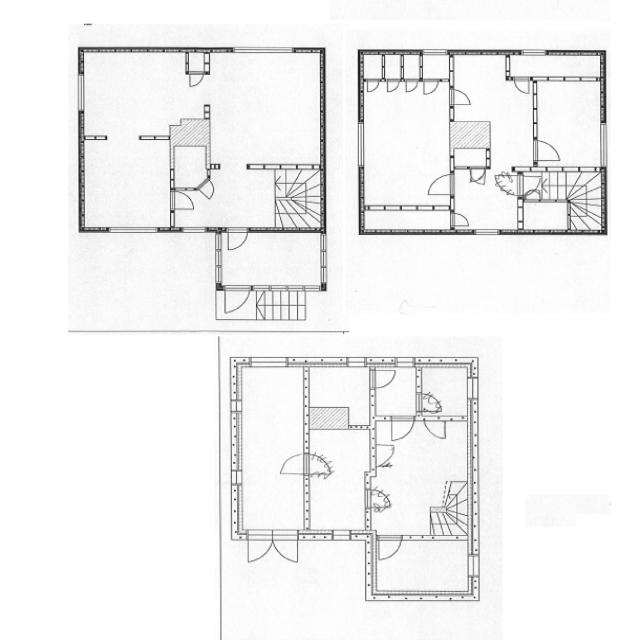door: (248, 532, 300, 565), (490, 160, 518, 198), (222, 284, 252, 314), (376, 534, 403, 562), (533, 139, 562, 165), (425, 172, 455, 197), (389, 416, 416, 442), (224, 227, 250, 252), (169, 189, 196, 213), (280, 452, 307, 476), (306, 453, 332, 477), (371, 367, 397, 390), (423, 417, 447, 441), (448, 87, 474, 107), (449, 211, 472, 228), (513, 76, 532, 96), (468, 165, 488, 184), (490, 153, 512, 170), (186, 70, 206, 88), (422, 78, 440, 96), (198, 182, 214, 201), (364, 78, 380, 94), (404, 78, 419, 94), (384, 79, 400, 94)
window: (87, 130, 177, 142), (316, 234, 332, 288), (597, 119, 611, 171), (230, 44, 294, 55), (402, 532, 465, 543), (355, 119, 368, 170), (106, 224, 160, 236), (73, 71, 88, 114), (539, 75, 599, 84), (250, 356, 290, 368), (466, 553, 481, 580), (465, 377, 479, 402), (472, 226, 503, 237), (179, 225, 209, 235), (421, 48, 449, 56), (520, 48, 548, 56), (395, 357, 416, 367)
zone: (206, 50, 322, 167), (234, 364, 306, 532), (362, 79, 451, 212), (368, 420, 467, 535), (80, 50, 198, 137), (80, 136, 172, 231), (451, 56, 534, 156), (216, 230, 331, 291), (307, 428, 370, 534), (535, 78, 605, 169), (452, 168, 520, 232), (306, 365, 372, 430), (419, 365, 471, 421), (372, 368, 419, 419), (172, 146, 208, 190), (520, 201, 569, 233), (381, 53, 422, 79), (491, 168, 521, 195), (452, 149, 491, 168), (361, 53, 384, 80)
